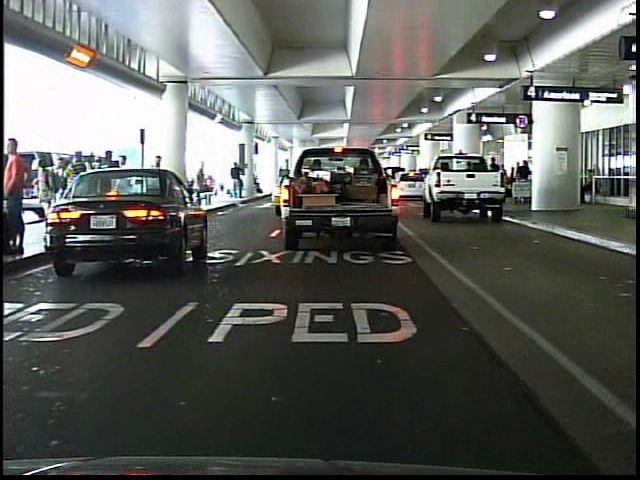person: (9, 135, 33, 258), (147, 151, 170, 222), (194, 157, 213, 222), (230, 161, 249, 200)
